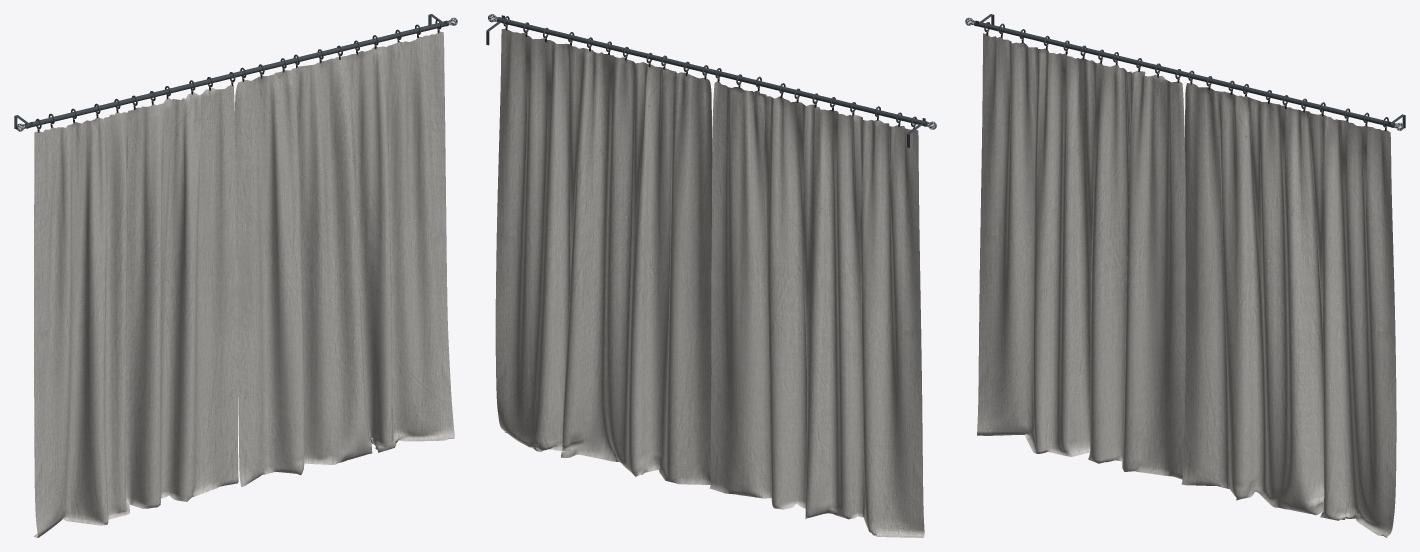
File: curtain.glb
3 renders of one model, left to right at view 1: azimuth 30°, elevation 25°; view 2: azimuth 150°, elevation 25°; view 3: azimuth 330°, elevation 25°, orthographic. The views are drawn at different scales.
Parts seen in each view (by area): view 1: Plane.001, Rideau.001, Tringle; view 2: Plane.001, Rideau.001, Tringle; view 3: Plane.001, Rideau.001, Tringle.
Boxes of the visible parts, x1,y1,x2,y2 form: Plane.001: (235, 31, 454, 486); Rideau.001: (33, 84, 238, 537); Tringle: (14, 14, 457, 131); Plane.001: (495, 28, 712, 484); Rideau.001: (709, 81, 924, 537); Tringle: (486, 14, 936, 147); Plane.001: (1181, 83, 1396, 537); Rideau.001: (977, 33, 1185, 479); Tringle: (965, 14, 1405, 130).
Bounding box in the file's own units: 2.72 × 2.45 × 0.249.
3 materials, 2 textured.
